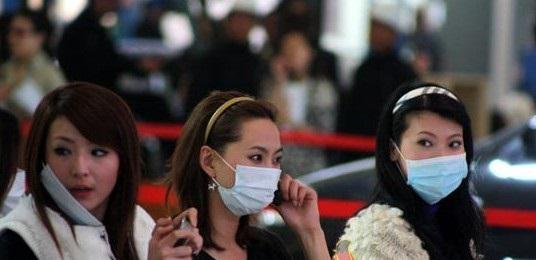OK: (394, 124, 470, 200), (212, 140, 284, 212)
WRONG: (44, 137, 121, 206)
